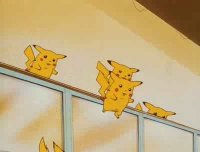pikachu: (18, 42, 67, 88), (97, 71, 142, 119), (93, 59, 142, 82), (136, 98, 177, 123)
